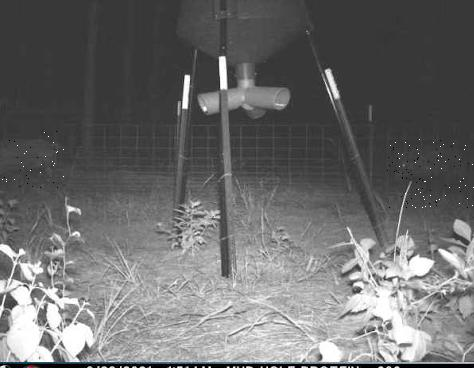Hog: (387, 139, 474, 208), (0, 130, 67, 189)
